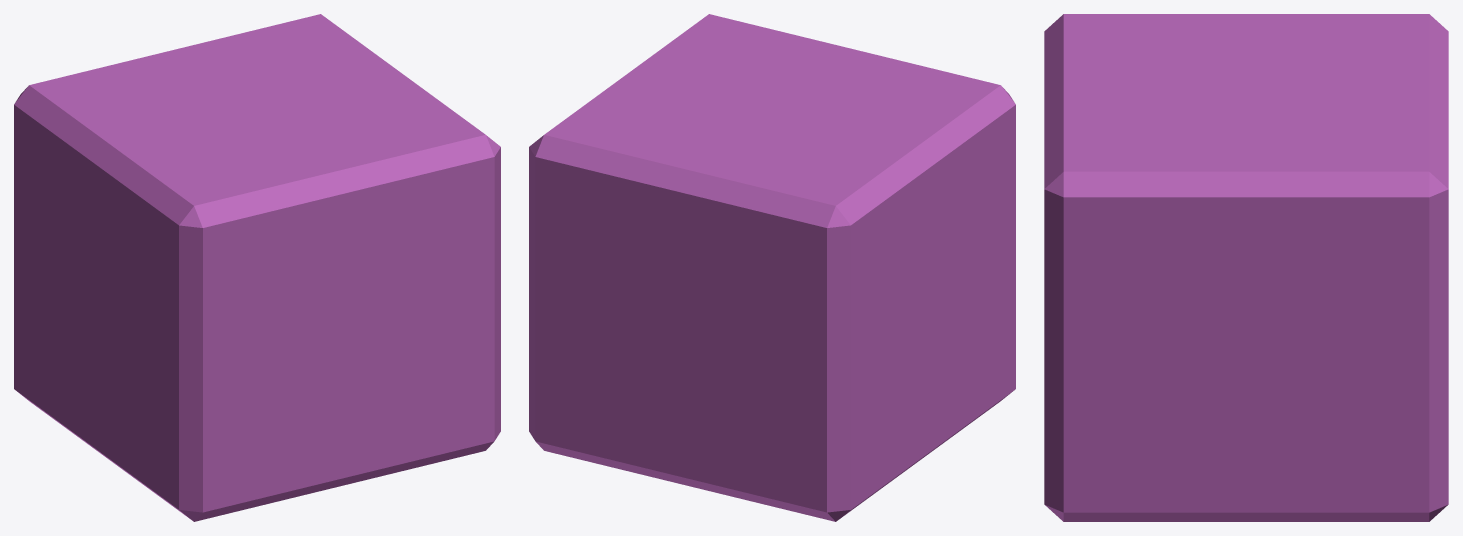
The model's file is FortressBlock.fbx.
3 views of the same model, side by side, from view 1: azimuth 30°, elevation 25°; view 2: azimuth 150°, elevation 25°; view 3: azimuth 270°, elevation 25° (orthographic). The views are drawn at different scales.
Parts seen in each view (by area): view 1: polySurface11; view 2: polySurface11; view 3: polySurface11.
Boxes of the visible parts, left/top/right/bottom form: polySurface11: left=14, top=14, right=500, bottom=521; polySurface11: left=529, top=14, right=1015, bottom=521; polySurface11: left=1044, top=14, right=1448, bottom=521.
Size of the model in its own units: 1.26 by 1.18 by 1.24.
